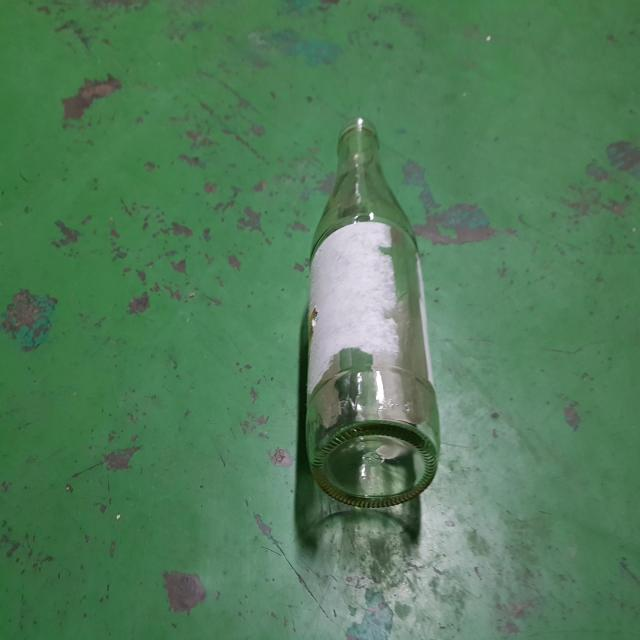glass: (307, 117, 441, 508)
